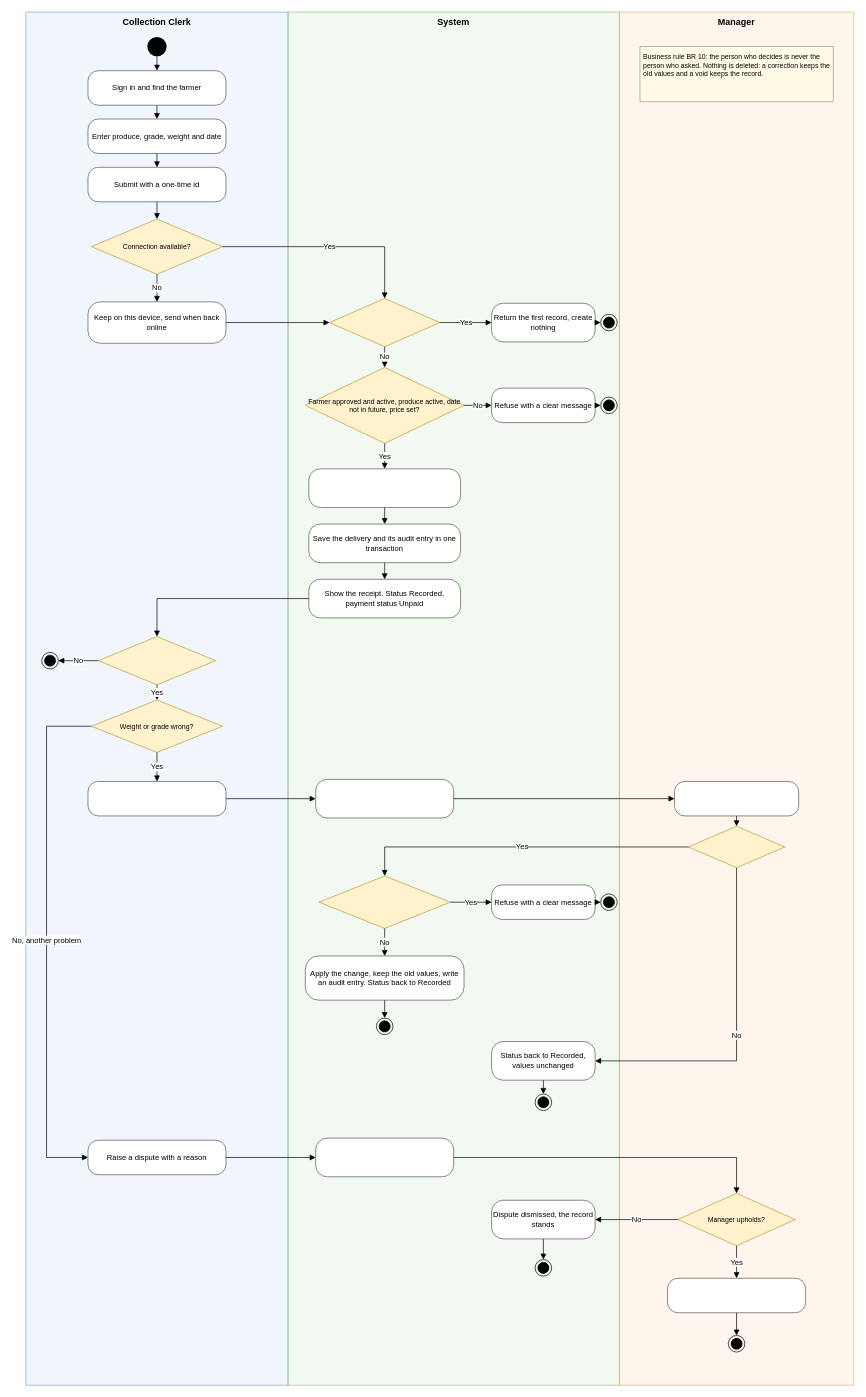
The diagram is 866 pixels wide and 1397 high, and some of its shapes have lost their labels. Here are the shapes that lost their labels. From the top down, the centre of each, then its label:
At point (384, 322): "Id already recorded?".
At point (384, 487): "Find the price on the delivery date, work out the value".
At point (157, 660): "Record wrong?".
At point (156, 798): "Request a correction with a reason".
At point (384, 798): "Status Correction pending, values unchanged".
At point (736, 798): "Review the correction".
At point (736, 847): "Approves?".
At point (384, 901): "Would the farmer be overpaid?".
At point (384, 1157): "Status Disputed, values unchanged".
At point (736, 1295): "Correct or void the record with a reason".
